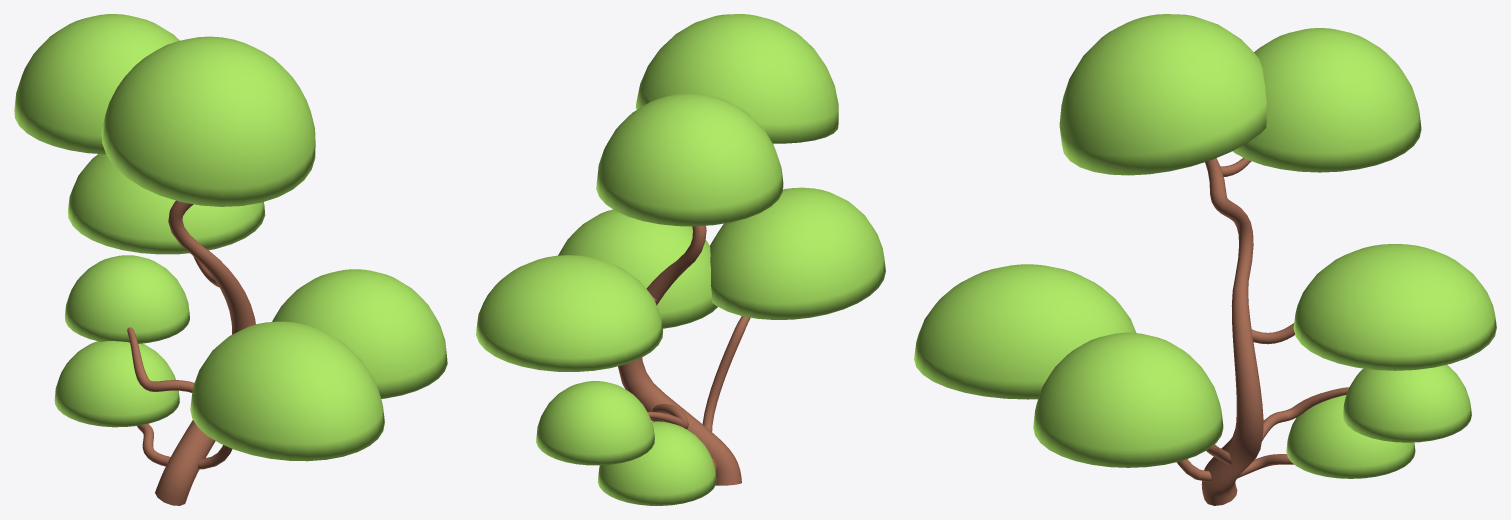
File: trees4.glb
3 views of the same model, side by side, from view 1: azimuth 30°, elevation 25°; view 2: azimuth 150°, elevation 25°; view 3: azimuth 270°, elevation 25° (orthographic). The views are drawn at different scales.
Parts seen in each view (by area): view 1: Sphere.001_4, Sphere.004_7, Sphere_3, Sphere.003_6, Sphere.002_5, Sphere.005_8, Sphere.006_9, trunk_2; view 2: Sphere_3, Sphere.004_7, Sphere.002_5, Sphere.001_4, Sphere.003_6, Sphere.005_8, Sphere.006_9, trunk_2; view 3: Sphere.001_4, Sphere.002_5, Sphere.003_6, Sphere.004_7, Sphere_3, trunk_2, Sphere.005_8, Sphere.006_9.
Boxes of the visible parts, bbox=[...] form: Sphere.001_4: bbox=[101, 36, 315, 206]; Sphere.004_7: bbox=[190, 321, 384, 461]; Sphere_3: bbox=[14, 14, 179, 154]; Sphere.003_6: bbox=[272, 269, 447, 398]; Sphere.002_5: bbox=[68, 154, 265, 254]; Sphere.005_8: bbox=[65, 255, 189, 343]; Sphere.006_9: bbox=[54, 341, 179, 427]; trunk_2: bbox=[127, 200, 255, 505]; Sphere_3: bbox=[596, 93, 783, 226]; Sphere.004_7: bbox=[710, 187, 885, 319]; Sphere.002_5: bbox=[476, 255, 662, 371]; Sphere.001_4: bbox=[635, 14, 838, 143]; Sphere.003_6: bbox=[558, 209, 717, 328]; Sphere.005_8: bbox=[536, 381, 654, 465]; Sphere.006_9: bbox=[597, 421, 716, 505]; trunk_2: bbox=[618, 225, 750, 485]; Sphere.001_4: bbox=[1059, 14, 1266, 175]; Sphere.002_5: bbox=[1293, 244, 1496, 370]; Sphere.003_6: bbox=[1033, 332, 1223, 467]; Sphere.004_7: bbox=[914, 264, 1136, 399]; Sphere_3: bbox=[1232, 28, 1421, 172]; trunk_2: bbox=[1176, 157, 1348, 505]; Sphere.005_8: bbox=[1343, 364, 1471, 442]; Sphere.006_9: bbox=[1286, 387, 1415, 478].
Size of the model in its own units: 1.87 by 2.67 by 2.92.
